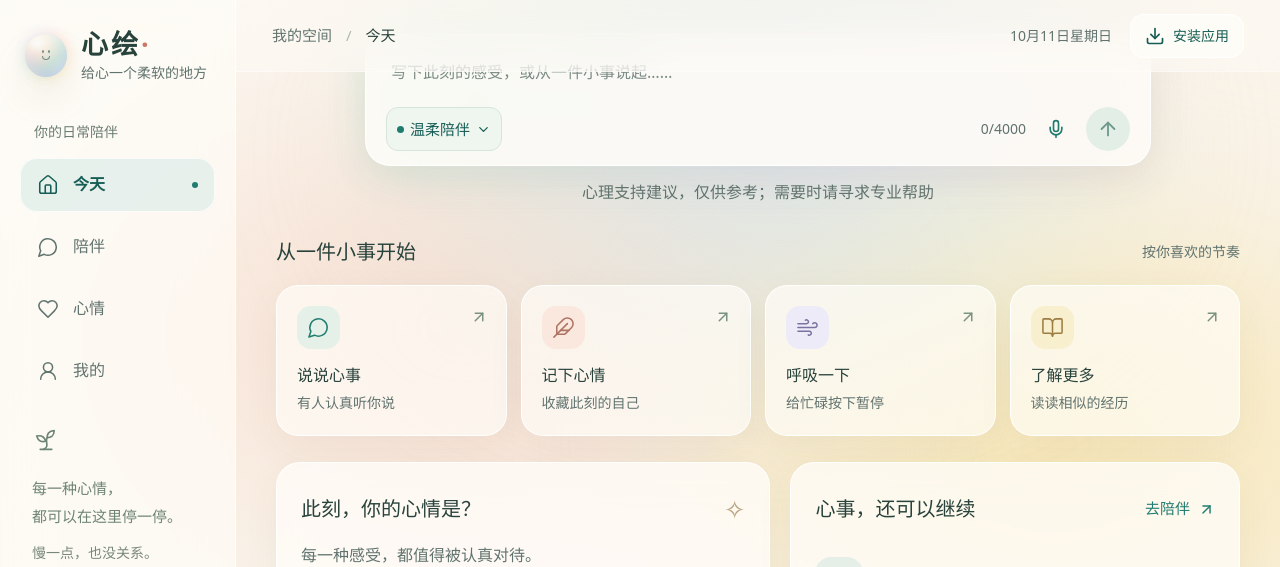
Scenario: reading inside the user application › keeps the application shell when opening the homepage reading action and its cards
This screenshot has width=1280, height=567.
(page scrolled)
Click the link to "/app/library": (1125, 361) [1010,285,1240,436]
(page scrolled)
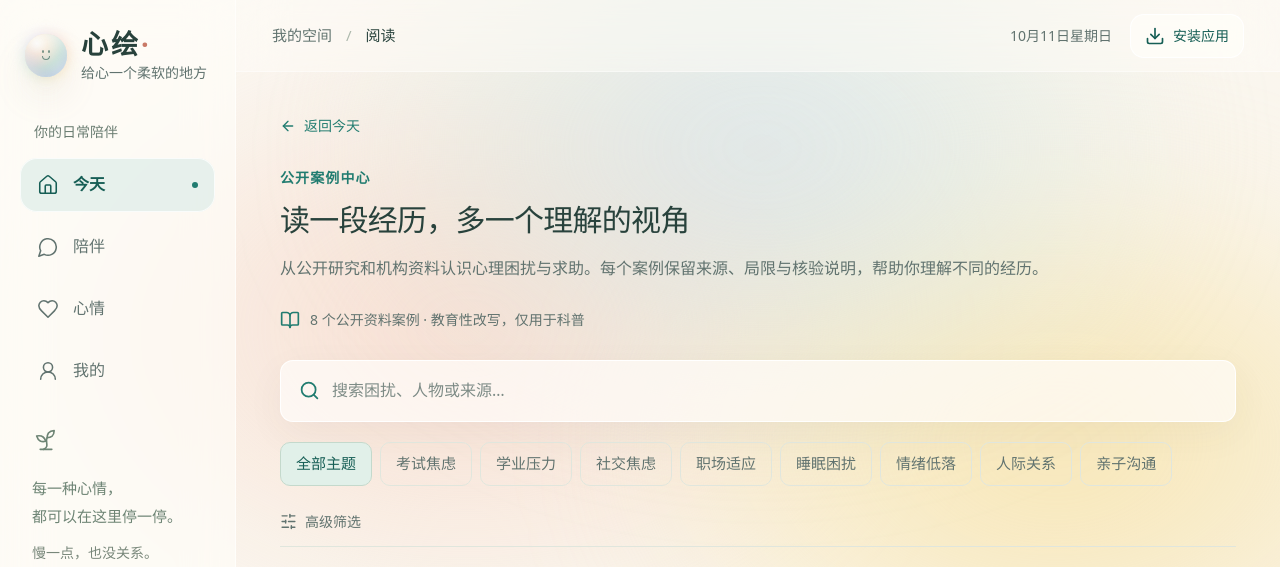
Result: the text "阅读" is shown at [366,23,396,48]
